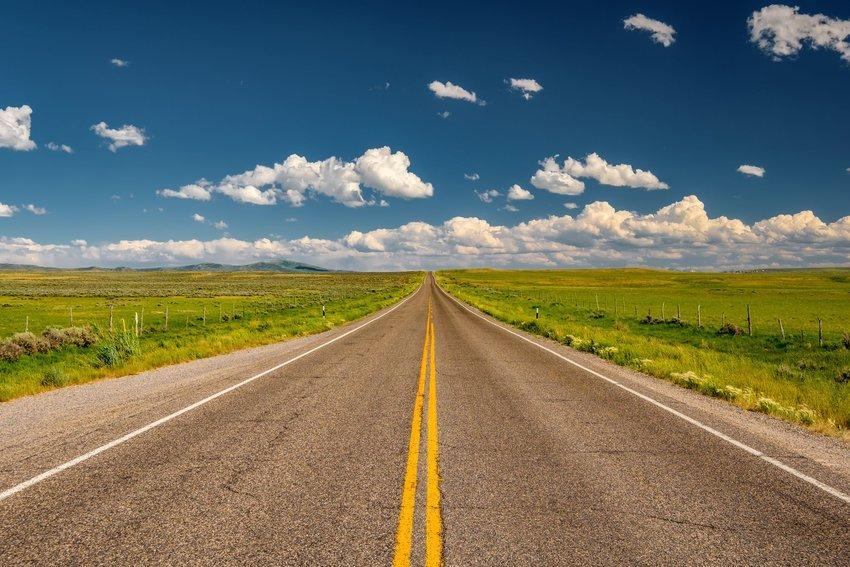cloud: (179, 142, 437, 220), (502, 145, 672, 208)
